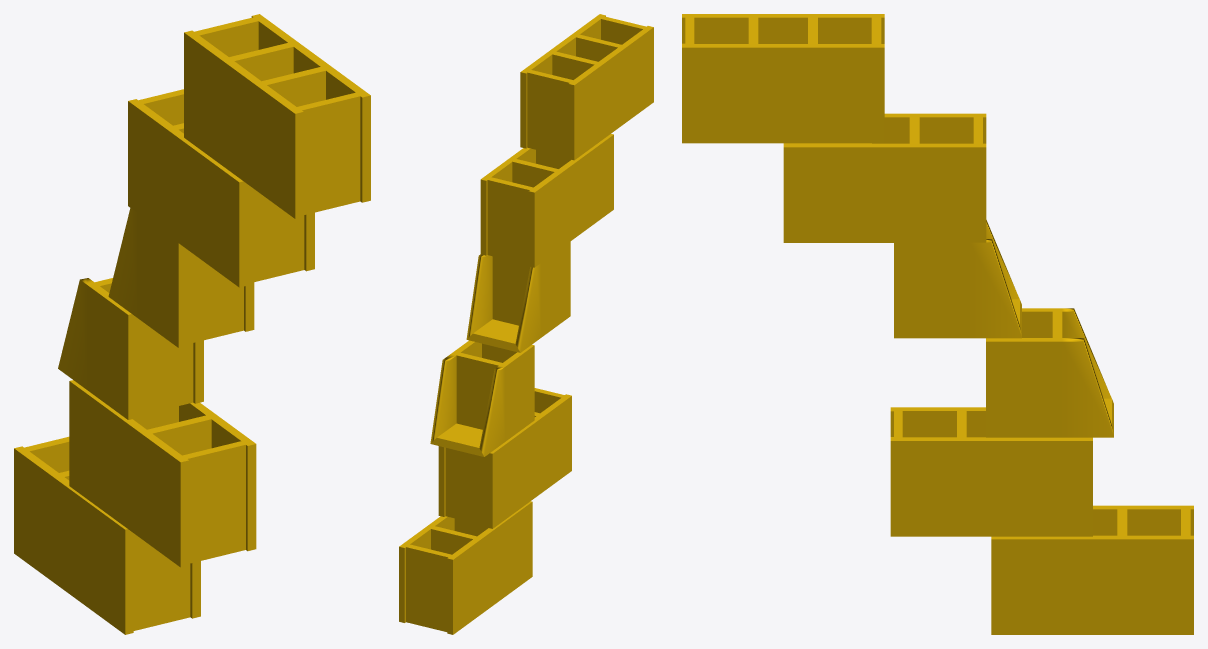
File: Wall_Cinderblock_04_Lod0.fbx
3 renders of one model, left to right at view 1: azimuth 30°, elevation 25°; view 2: azimuth 150°, elevation 25°; view 3: azimuth 270°, elevation 25°, orthographic. The views are drawn at different scales.
Visible parts, largest first — view 1: Wall_Cinderblock_04_Lod0; view 2: Wall_Cinderblock_04_Lod0; view 3: Wall_Cinderblock_04_Lod0.
Boxes of the visible parts, x1,y1,x2,y2 form: Wall_Cinderblock_04_Lod0: [14, 14, 370, 634]; Wall_Cinderblock_04_Lod0: [399, 14, 653, 634]; Wall_Cinderblock_04_Lod0: [682, 14, 1193, 634].
Bounding box in the file's own units: 20.09 × 164 × 129.
